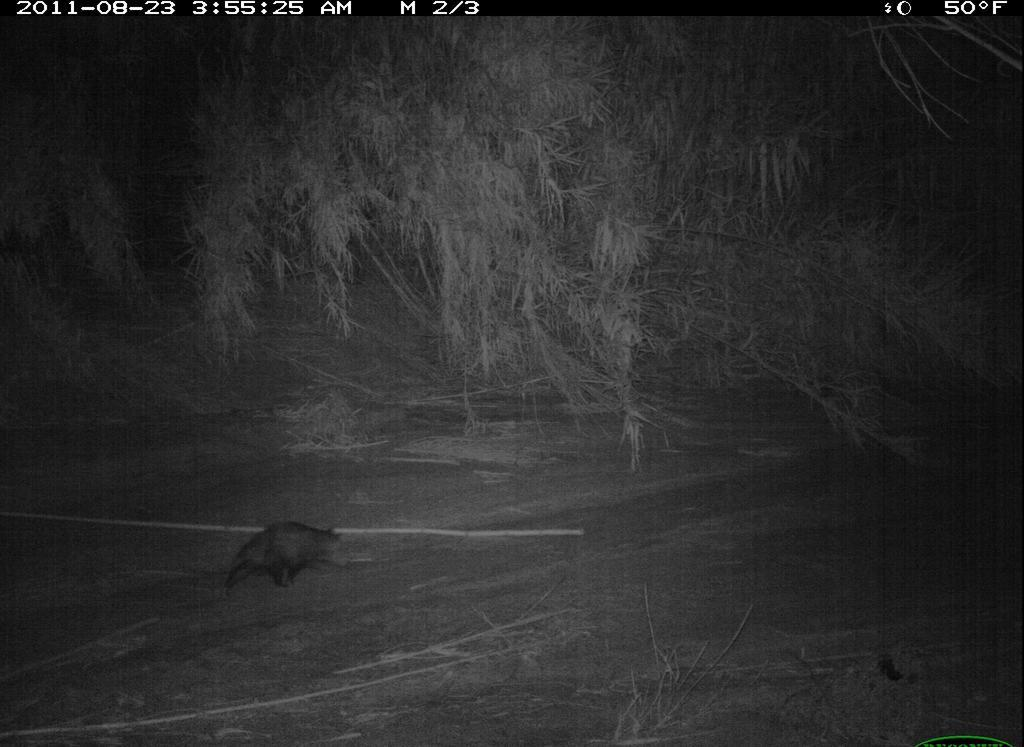opossum: (199, 505, 374, 606)
